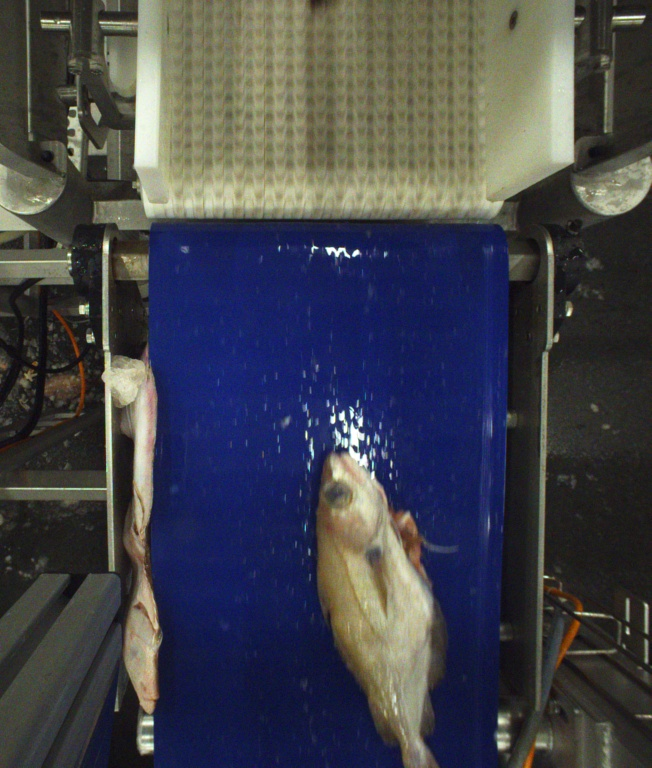BIB: (310, 447, 446, 768)
